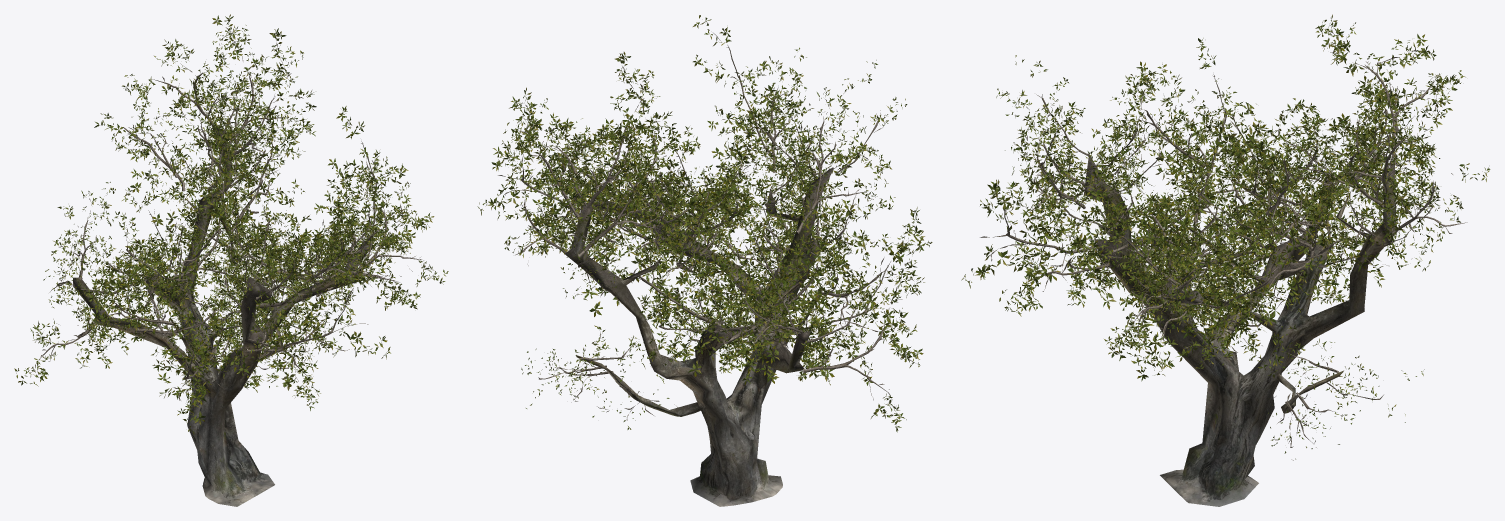
Rendered from island_tree_01_lod0.glb.
The picture shows the model from 3 angles, left to right: view 1: azimuth 30°, elevation 25°; view 2: azimuth 150°, elevation 25°; view 3: azimuth 270°, elevation 25°; orthographic projection. The views are drawn at different scales.
Visible parts, largest first — view 1: island_tree_01_LOD0; view 2: island_tree_01_LOD0; view 3: island_tree_01_LOD0.
Part boxes in pixels (x1,y1,x2,y2): island_tree_01_LOD0: (14, 14, 448, 506); island_tree_01_LOD0: (477, 15, 932, 506); island_tree_01_LOD0: (961, 14, 1490, 506).
Bounding box in the file's own units: 4.74 × 5.02 × 4.81.
3 materials, 3 textured.
